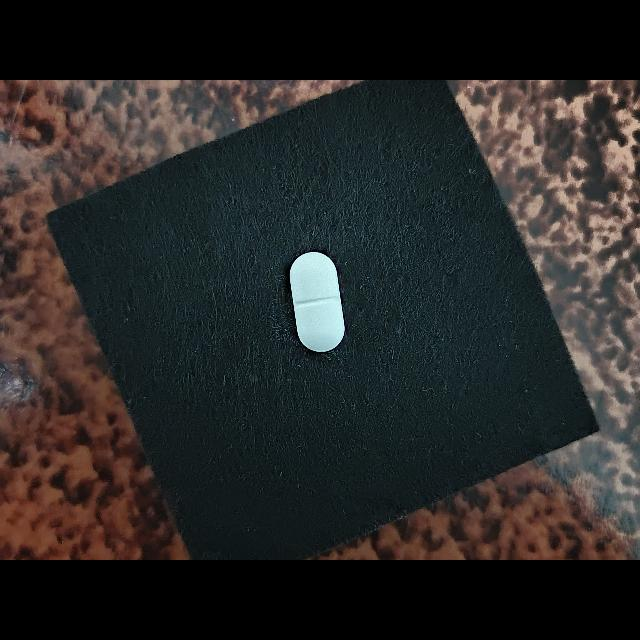Intact Pill: (290, 251, 345, 352)
